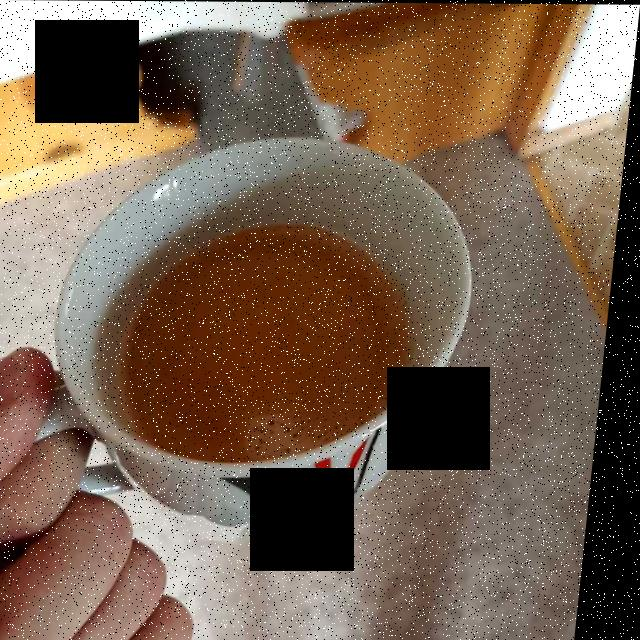coffee-with-caffeine: (128, 225, 421, 457)
